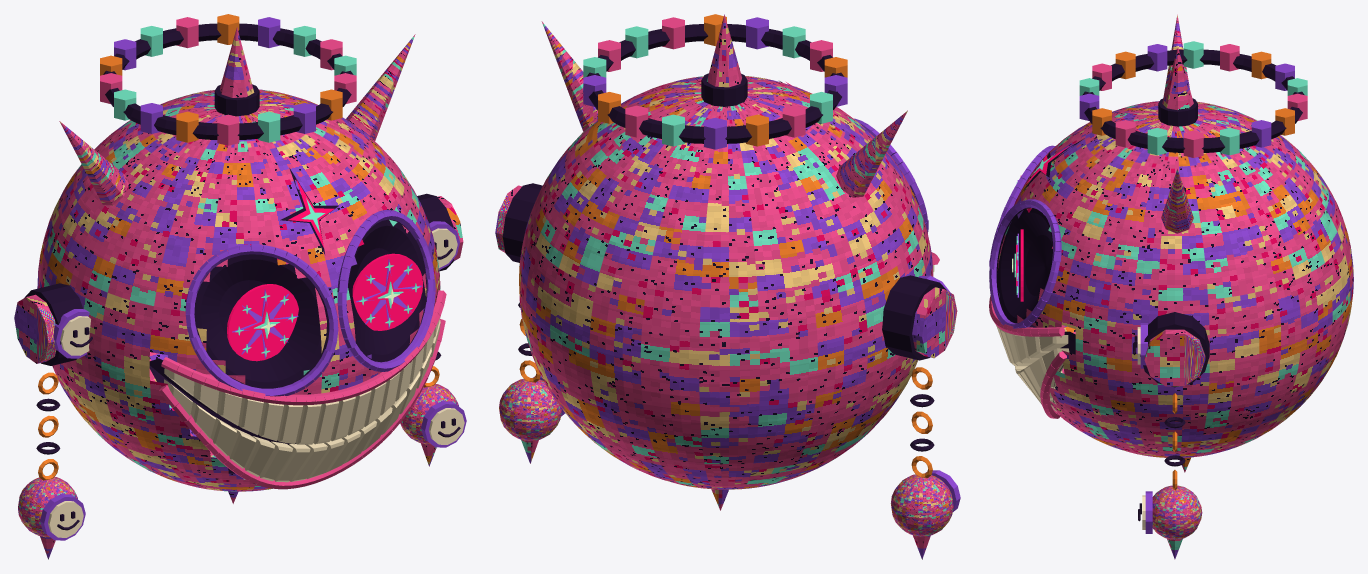
Rendered from grin-orb-v2.glb.
3 renders of one model, left to right at view 1: azimuth 30°, elevation 25°; view 2: azimuth 150°, elevation 25°; view 3: azimuth 270°, elevation 25°, orthographic. The views are drawn at different scales.
Parts seen in each view (by area): view 1: grin_orb_shell_shell, grin_orb_shell_dark, grin_orb_halo_shell, grin_orb_shell_teeth, grin_orb_eyes_eyes, grin_orb_jaw_teeth, grin_orb_halo_dark, grin_orb_charm_left_shell, grin_orb_jaw_shell, grin_orb_charm_right_shell, grin_orb_charm_left_teeth, grin_orb_charm_right_teeth (+2 smaller); view 2: grin_orb_shell_shell, grin_orb_halo_shell, grin_orb_shell_dark, grin_orb_charm_left_shell, grin_orb_halo_dark, grin_orb_charm_right_shell; view 3: grin_orb_shell_shell, grin_orb_halo_shell, grin_orb_shell_dark, grin_orb_halo_dark, grin_orb_charm_right_shell, grin_orb_shell_teeth, grin_orb_jaw_teeth, grin_orb_jaw_shell, grin_orb_eyes_eyes.
Part boxes in pixels (<box>): grin_orb_shell_shell: <box>14,27,463,503</box>; grin_orb_shell_dark: <box>24,84,453,473</box>; grin_orb_halo_shell: <box>100,14,356,145</box>; grin_orb_shell_teeth: <box>60,228,457,444</box>; grin_orb_eyes_eyes: <box>227,253,422,361</box>; grin_orb_jaw_teeth: <box>164,320,440,482</box>; grin_orb_halo_dark: <box>103,23,353,139</box>; grin_orb_charm_left_shell: <box>18,372,85,559</box>; grin_orb_jaw_shell: <box>159,319,445,489</box>; grin_orb_charm_right_shell: <box>400,366,466,466</box>; grin_orb_charm_left_teeth: <box>48,501,83,537</box>; grin_orb_charm_right_teeth: <box>429,408,464,444</box>; grin_orb_shell_shell: <box>495,14,957,510</box>; grin_orb_halo_shell: <box>583,14,847,149</box>; grin_orb_shell_dark: <box>502,73,946,360</box>; grin_orb_charm_left_shell: <box>890,367,960,559</box>; grin_orb_halo_dark: <box>586,24,844,143</box>; grin_orb_charm_right_shell: <box>499,319,565,463</box>; grin_orb_shell_shell: <box>989,14,1353,472</box>; grin_orb_halo_shell: <box>1079,41,1307,157</box>; grin_orb_shell_dark: <box>996,98,1209,402</box>; grin_orb_halo_dark: <box>1082,49,1304,152</box>; grin_orb_charm_right_shell: <box>1145,393,1202,559</box>; grin_orb_shell_teeth: <box>996,325,1140,366</box>; grin_orb_jaw_teeth: <box>1015,348,1069,411</box>; grin_orb_jaw_shell: <box>1040,351,1066,418</box>; grin_orb_eyes_eyes: <box>1012,175,1023,301</box>.
Size of the model in its own units: 3.58 by 3.83 by 2.94.
Materials: 4 (2 with a texture image).
